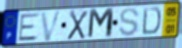D: (141, 6, 163, 37)
E: (17, 12, 42, 43)
M: (86, 7, 115, 41)
S: (118, 7, 141, 38)
V: (39, 9, 63, 43)
X: (66, 10, 89, 41)
